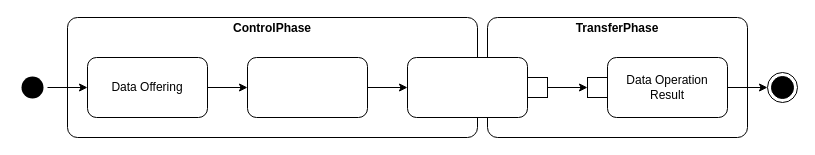
The diagram is 815 pixels wide and 155 high, and some of its shapes have lost their labels. The shapes that lost their labels are listed below. From the top down, each one's centre as x and y in pixels, then its label:
the point at 307,87: Contract Negotiation
the point at 467,87: Data Operation Invokation
